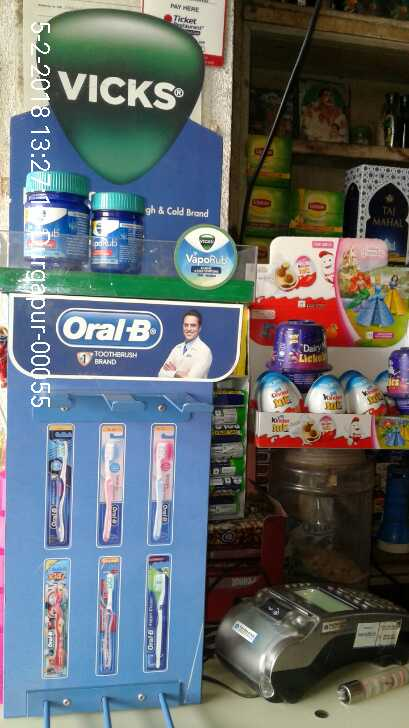vicks: (22, 168, 87, 267), (88, 188, 144, 276)
